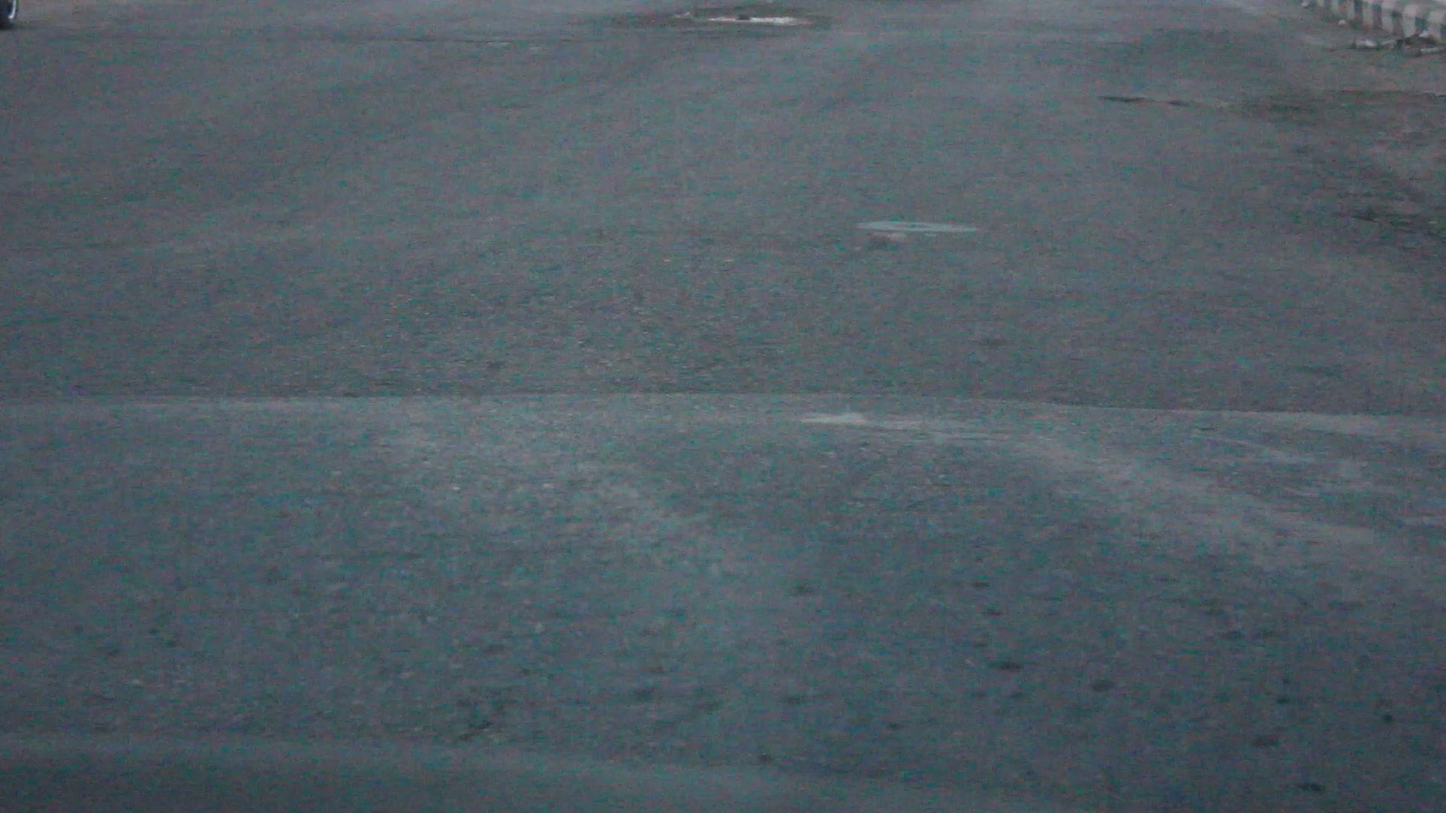Bump: (0, 399, 1445, 812)
